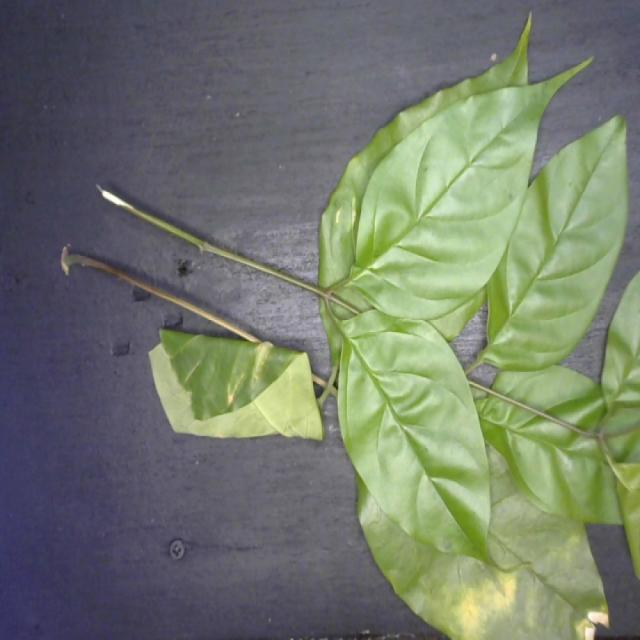biodegradable: (311, 10, 640, 640)
